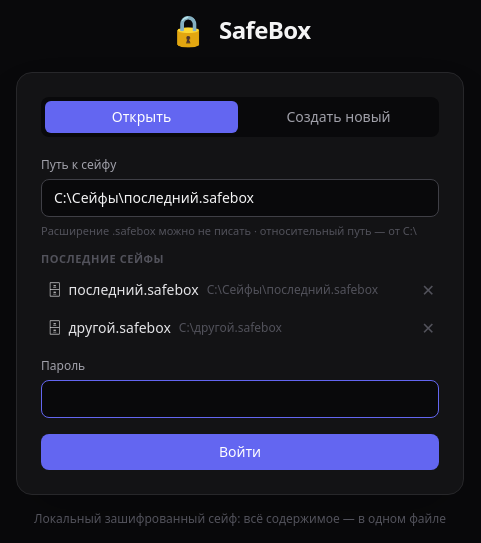
it: LoginScreen: последние сейфы › клик по сейфу подставляет путь и фокусирует пароль
Expected: the field labelled "Путь к сейфу" is shown, [41,178,439,216]
Click the button "🗄 другой.safebox C:\\другой.safebox".
click(227, 328)  # box [41,310,414,346]
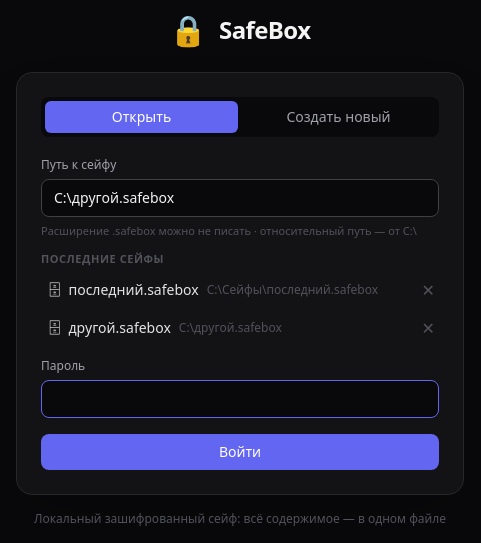
Expected: the field labelled "Путь к сейфу" holds "C:\\другой.safebox", [41,178,439,216]
